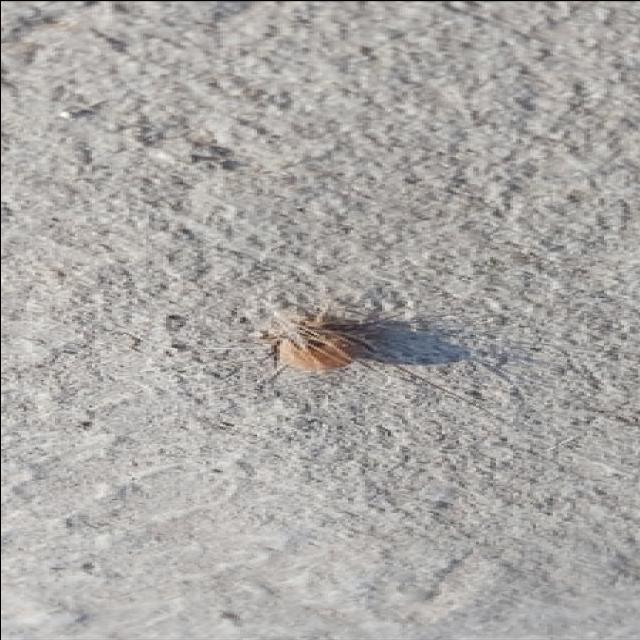Ixodes Ricinus-F: (259, 307, 412, 372)
